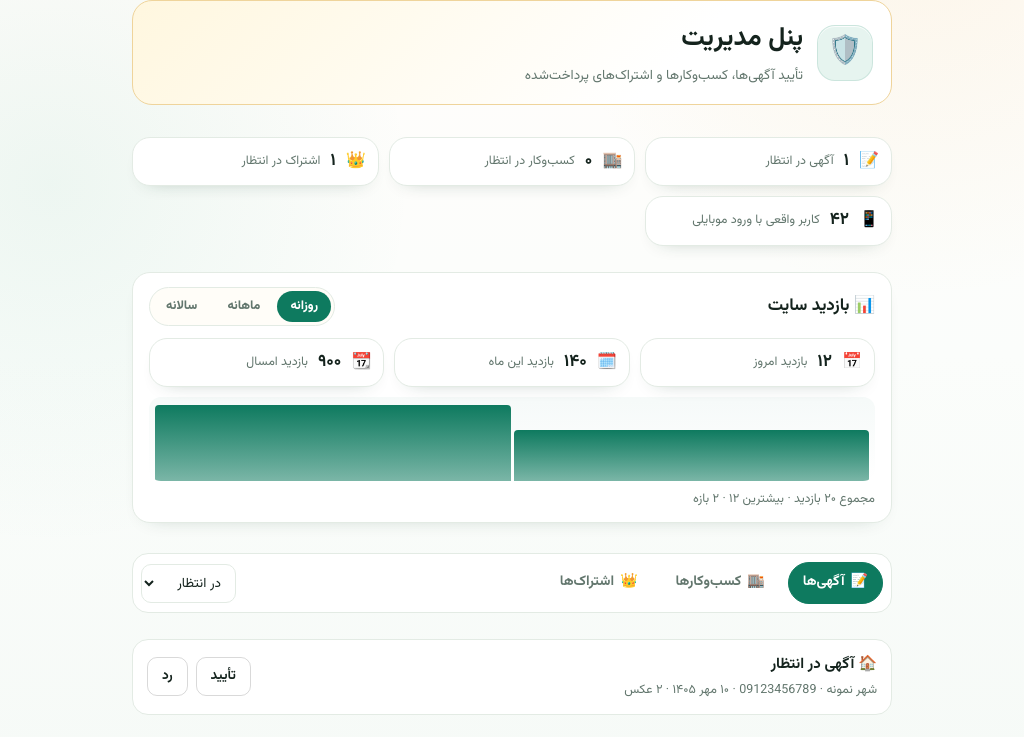
Test case: AdminPanel › approves an ad and refreshes the queue + counters
Click the button with test id "approve-7" at coordinates (223, 677), box x1=196 y1=657 x2=251 y2=696
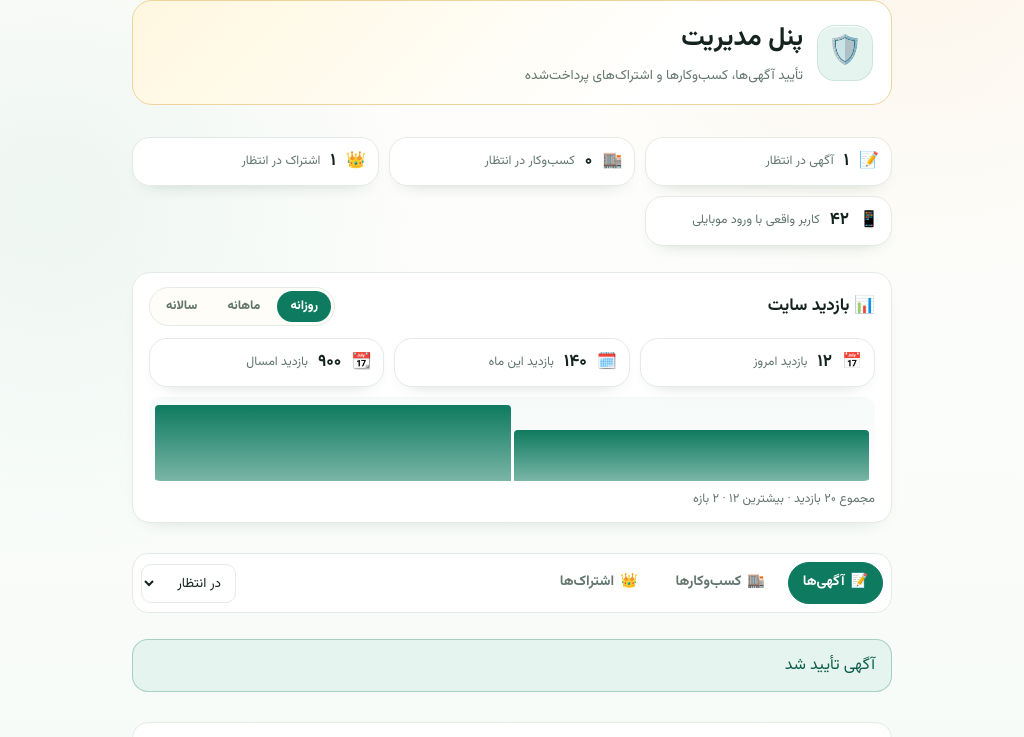
Now the message reads "آگهی تأیید شد", box x1=785 y1=653 x2=875 y2=678
